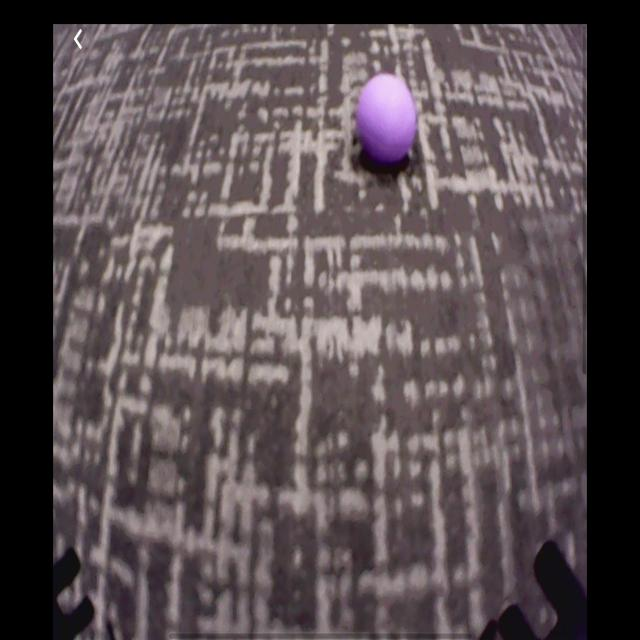ball: (356, 74, 421, 168)
